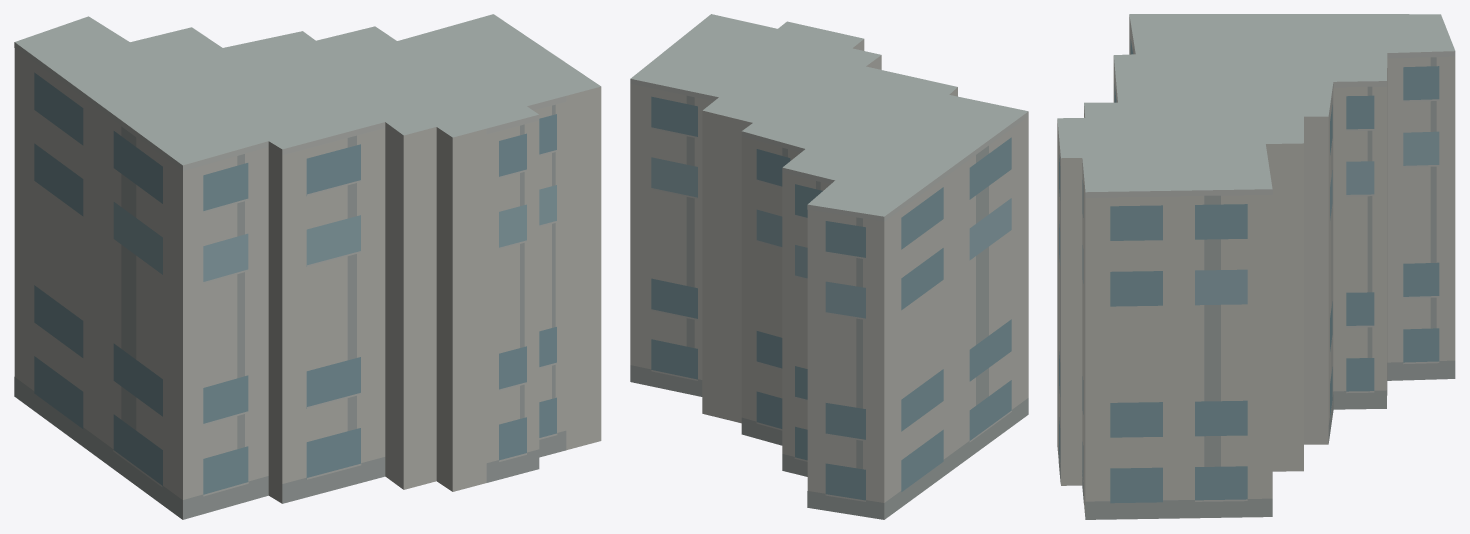
The model's file is survey-upis-32577007.glb.
3 renders of one model, left to right at view 1: azimuth 30°, elevation 25°; view 2: azimuth 150°, elevation 25°; view 3: azimuth 270°, elevation 25°, orthographic. The views are drawn at different scales.
Parts seen in each view (by area): view 1: survey-upis-32577007.tmp; view 2: survey-upis-32577007.tmp; view 3: survey-upis-32577007.tmp.
Boxes of the visible parts, box(x1,y1,x2,y2) form: survey-upis-32577007.tmp: box(14, 14, 601, 519); survey-upis-32577007.tmp: box(630, 14, 1028, 519); survey-upis-32577007.tmp: box(1057, 14, 1455, 519).
Bounding box in the file's own units: 16.92 × 14.5 × 15.97.
